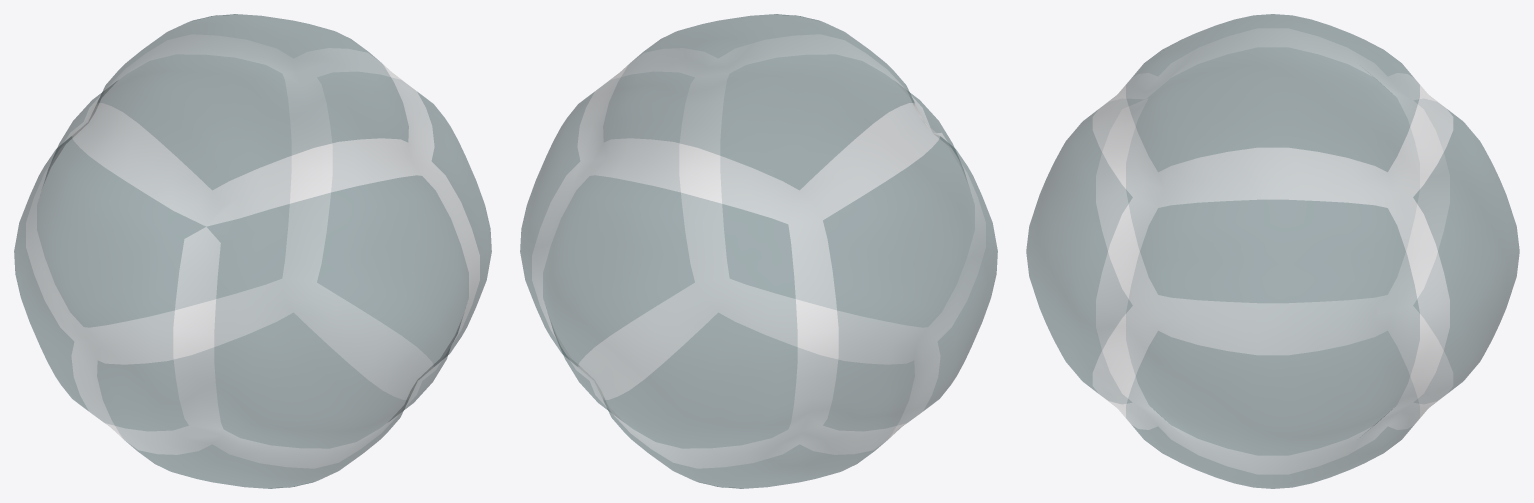
Rendered from ballTransparent.fbx.
The picture shows the model from 3 angles, left to right: view 1: azimuth 30°, elevation 25°; view 2: azimuth 150°, elevation 25°; view 3: azimuth 270°, elevation 25°; orthographic projection.
Visible parts, largest first — view 1: Ball; view 2: Ball; view 3: Ball.
Boxes of the visible parts, x1=… form: Ball: x1=14, y1=14, x2=491, y2=488; Ball: x1=520, y1=14, x2=997, y2=488; Ball: x1=1026, y1=14, x2=1519, y2=488.
Size of the model in its own units: 2.12 by 2.12 by 2.12.
